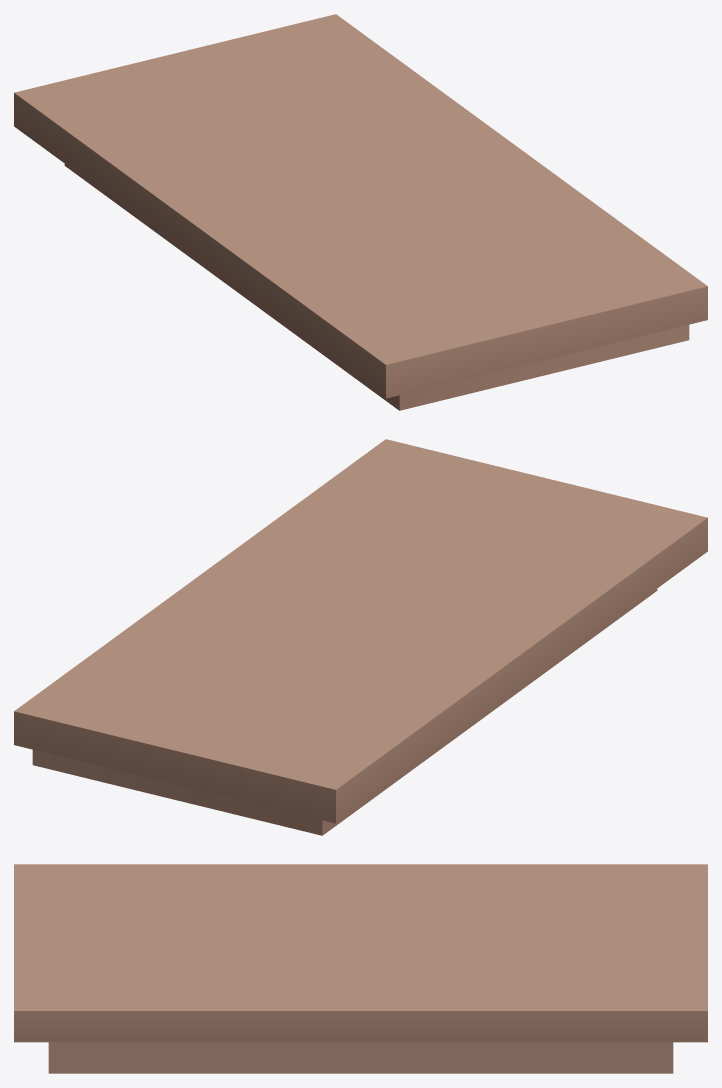
Rendered from surfaces-half-surface-square-edge.glb.
3 renders of one model, top to bottom at view 1: azimuth 30°, elevation 25°; view 2: azimuth 150°, elevation 25°; view 3: azimuth 270°, elevation 25°, orthographic. The views are drawn at different scales.
Parts seen in each view (by area): view 1: surfaces-half-surface-square-edge; view 2: surfaces-half-surface-square-edge; view 3: surfaces-half-surface-square-edge.
Boxes of the visible parts, x1,y1,x2,y2 form: surfaces-half-surface-square-edge: [14, 14, 707, 410]; surfaces-half-surface-square-edge: [14, 439, 707, 835]; surfaces-half-surface-square-edge: [14, 864, 707, 1073].
Size of the model in its own units: 0.5 by 0.1 by 1.
